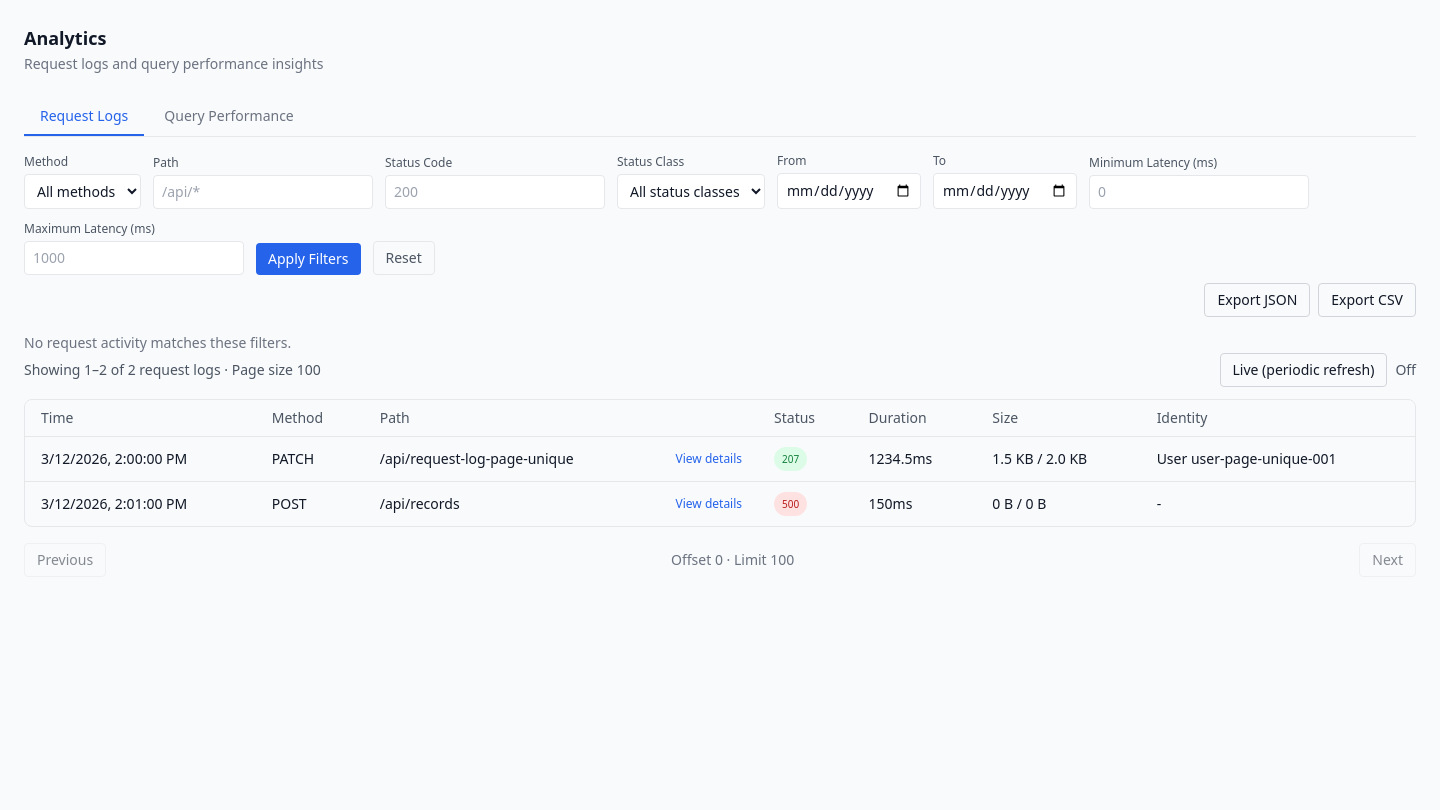
Analytics › rejects invalid latency filters: Minimum latency must be zero or greater
In the number field labelled "Minimum Latency (ms)": (1199, 192) [1089, 175, 1309, 209], type "-1"
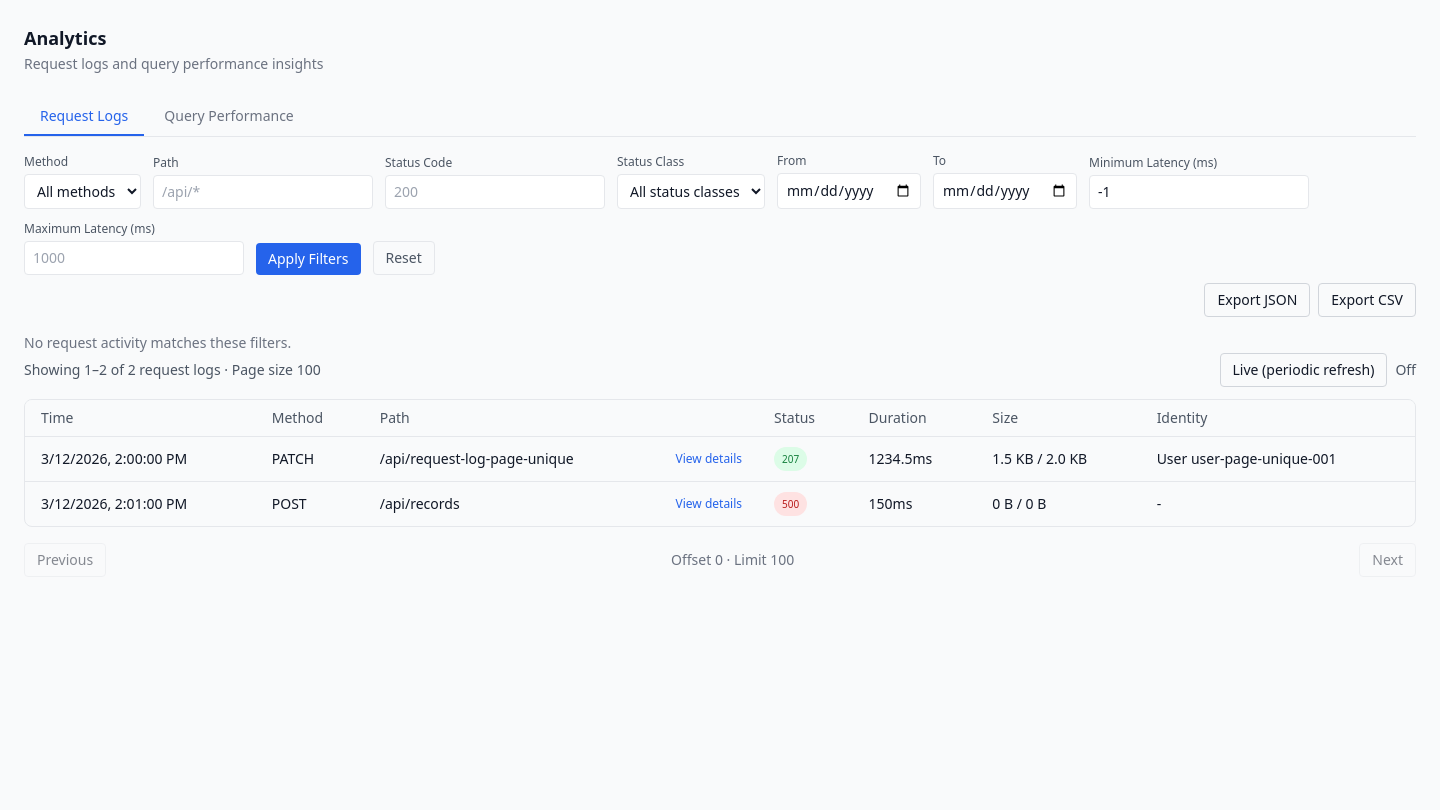
Click the button "Apply Filters": (308, 259) [256, 243, 360, 275]
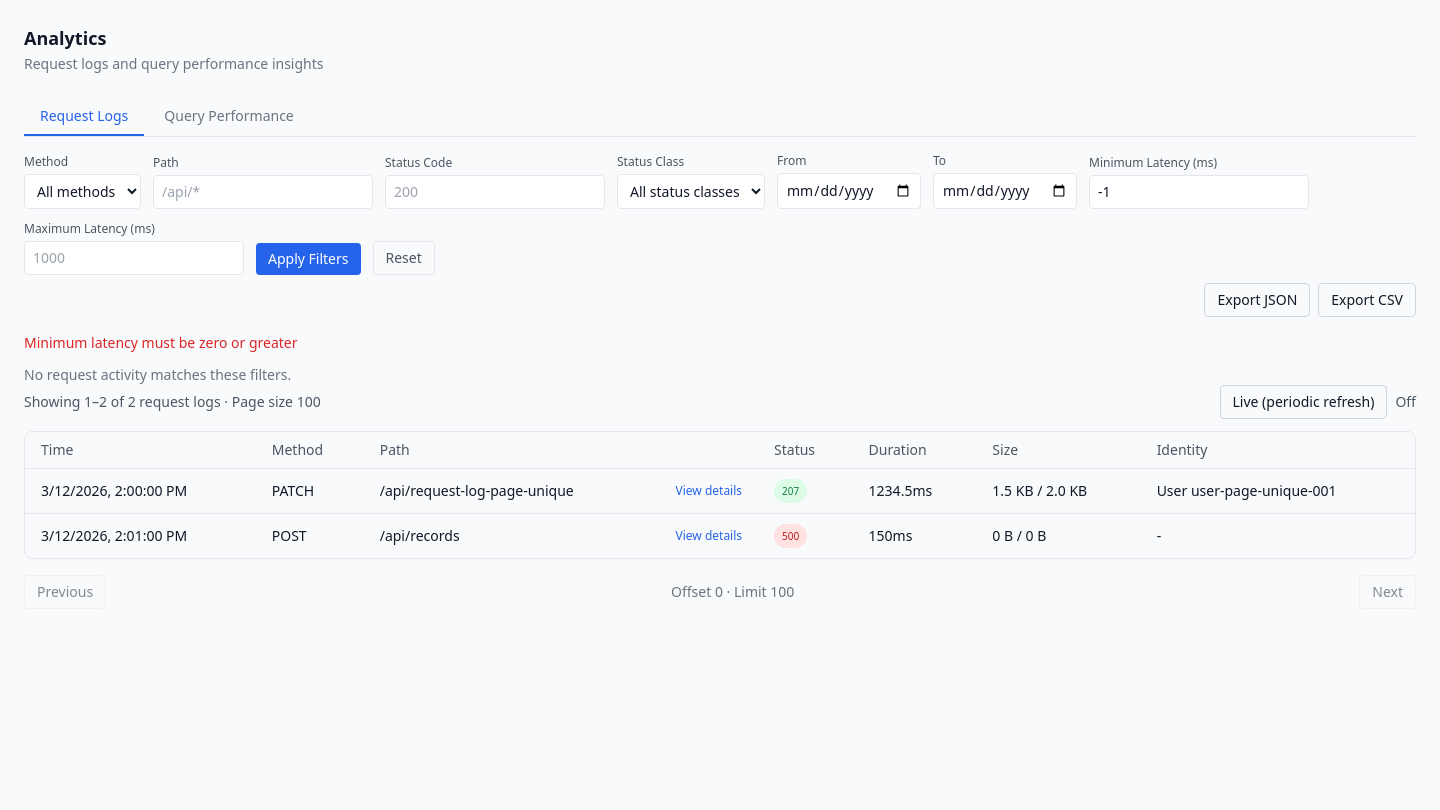
Check: the message "Minimum latency must be zero or greater" is shown, box [24, 333, 298, 352]
